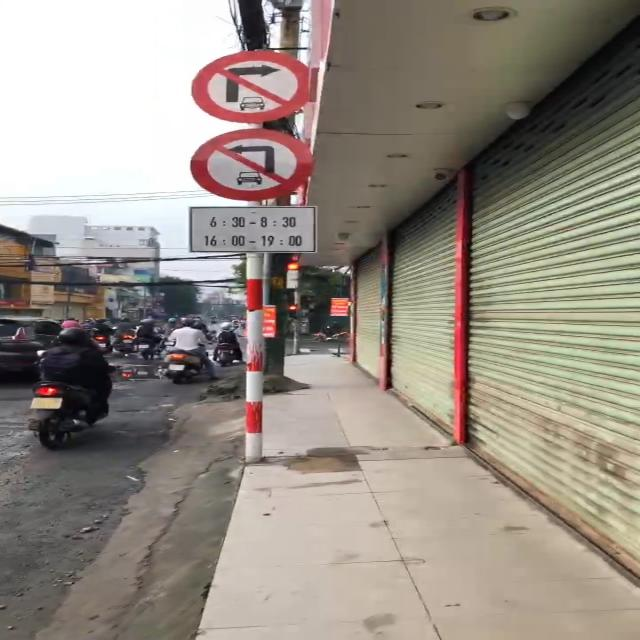Bien bao cam xe o to re phai: (185, 48, 324, 125)
Bien bao cam xe o to re trai: (185, 125, 322, 205)
